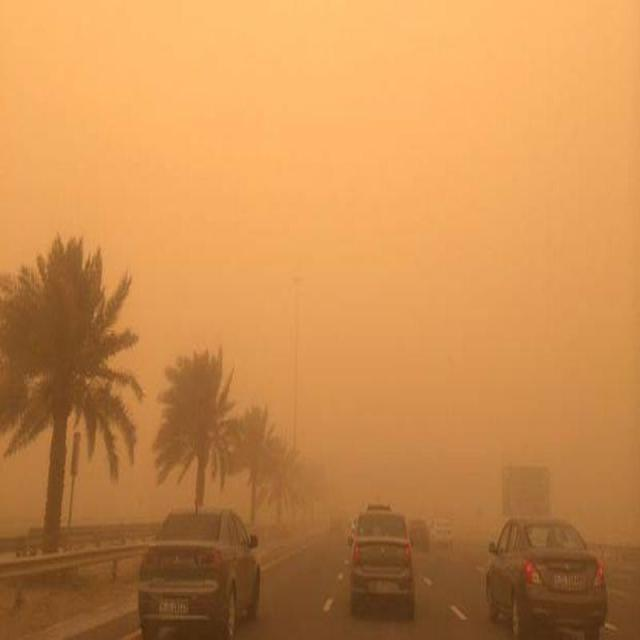Car: (131, 492, 264, 640), (475, 515, 607, 635), (342, 508, 418, 616), (429, 513, 455, 553), (408, 515, 426, 548)
